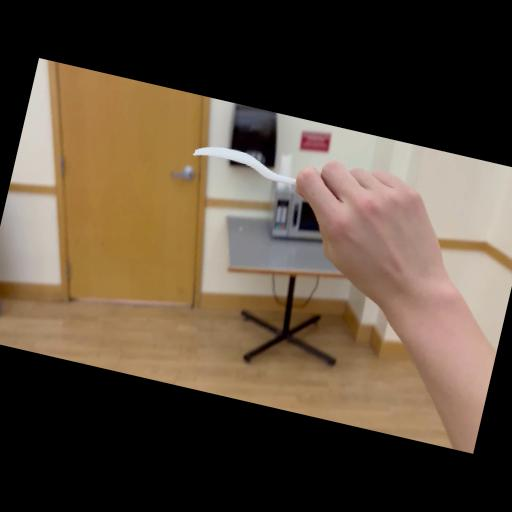utensil: (189, 140, 332, 200)
